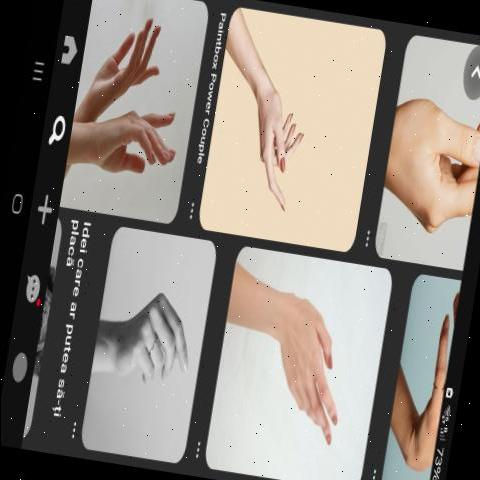Hands: (216, 289, 380, 465), (93, 281, 211, 427), (76, 7, 192, 137), (245, 66, 333, 234), (75, 98, 191, 199)
